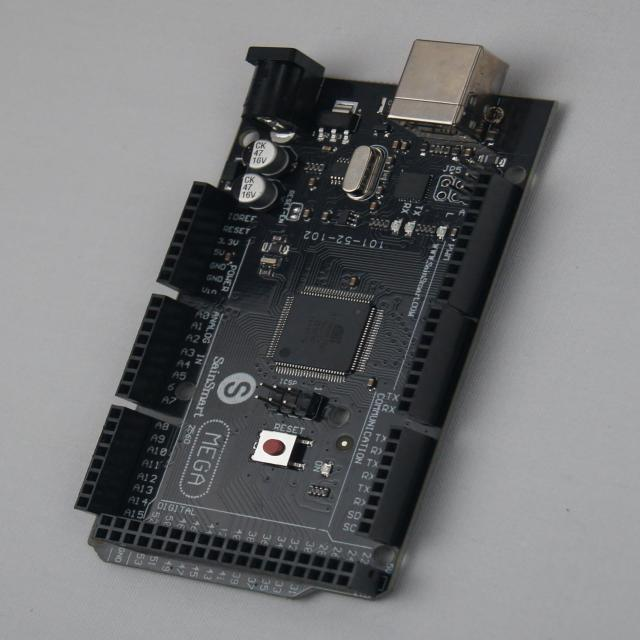Arduino Mega 2560 -Black-: (77, 42, 553, 597)
